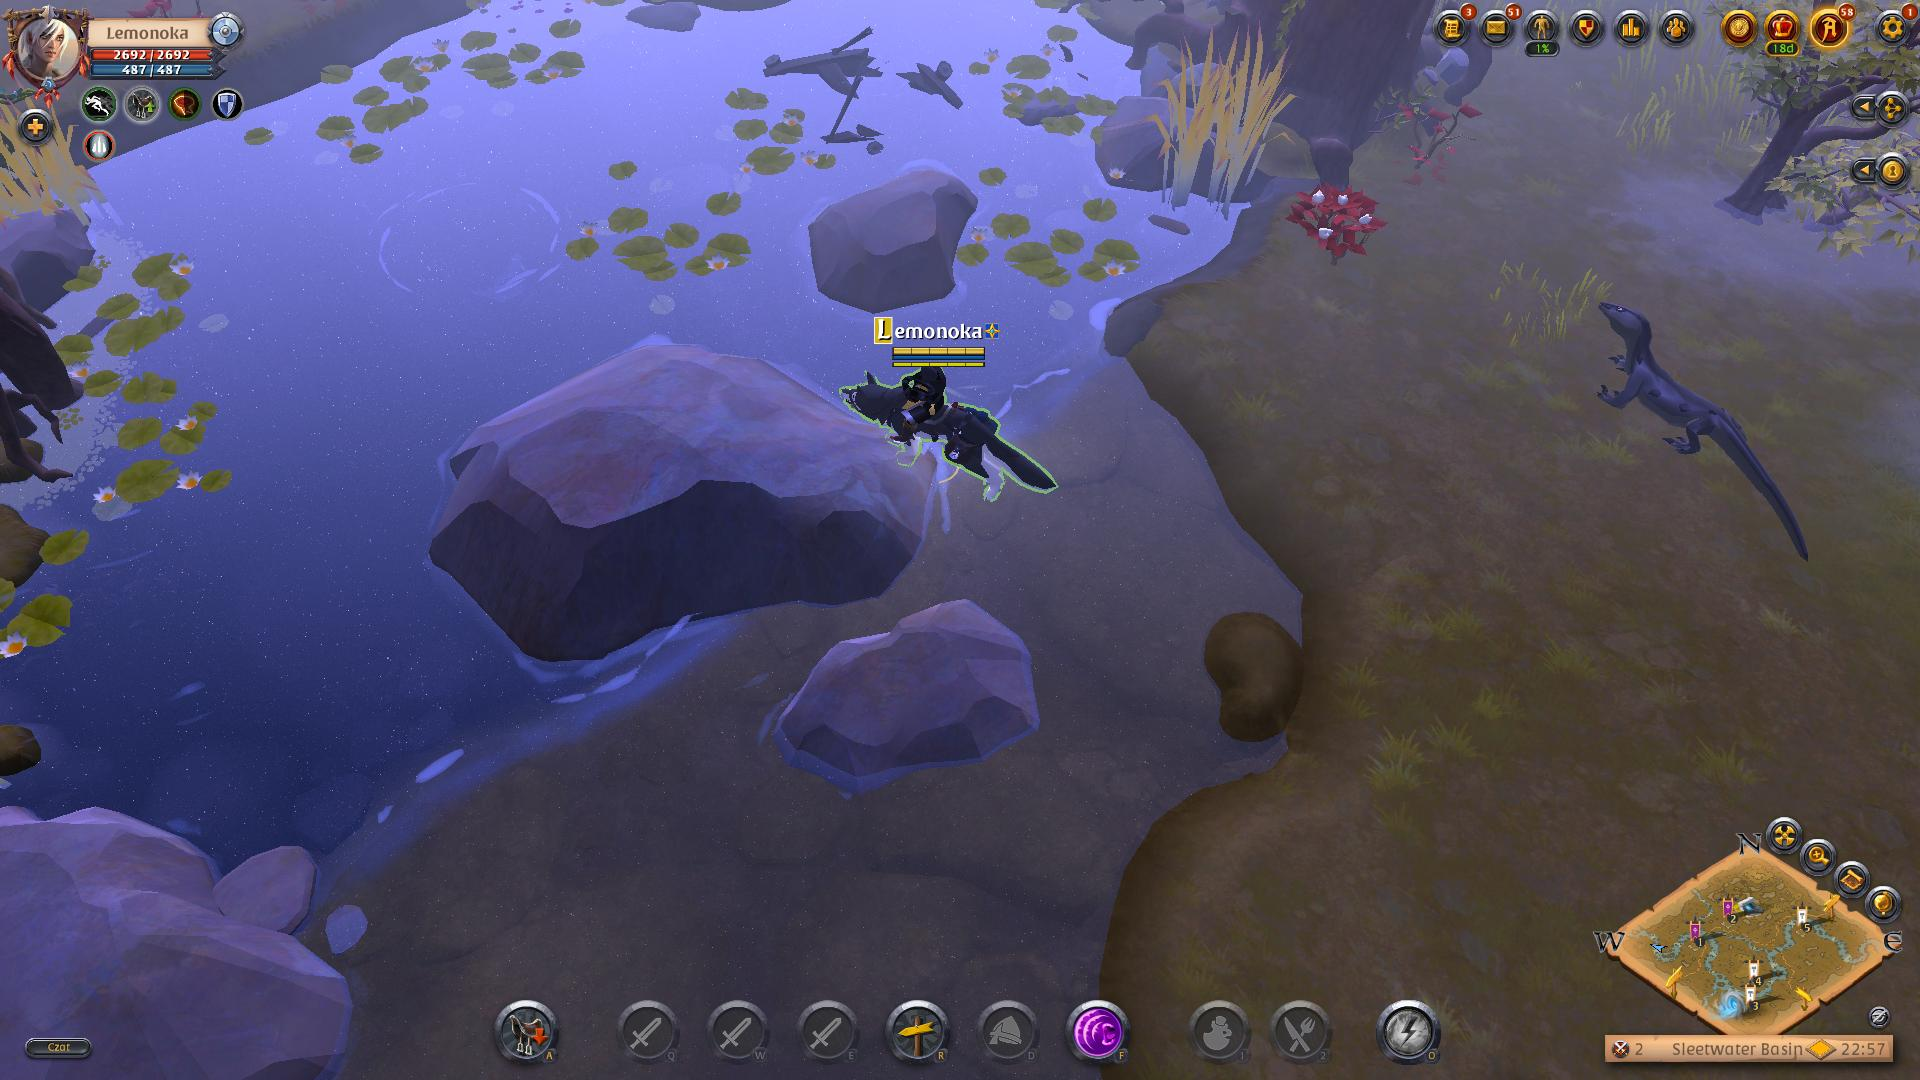fiber tier 5: (1280, 178, 1390, 270)
fish: (365, 169, 564, 303)
